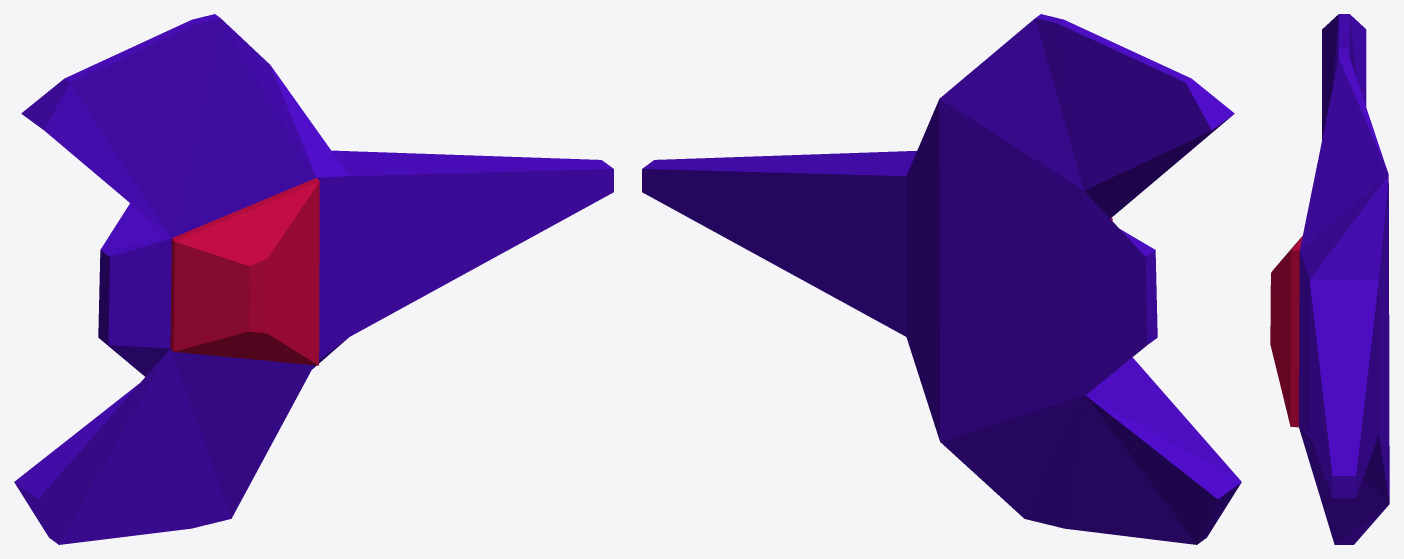
The model's file is spaceship.obj.
3 views of the same model, side by side, from view 1: azimuth 30°, elevation 25°; view 2: azimuth 150°, elevation 25°; view 3: azimuth 270°, elevation 25° (orthographic). The views are drawn at different scales.
Visible parts, largest first — view 1: Cube; view 2: Cube; view 3: Cube.
Part boxes in pixels (x1,y1,x2,y2): Cube: (14, 14, 613, 544); Cube: (642, 14, 1241, 544); Cube: (1270, 14, 1389, 544).
Bounding box in the file's own units: 21.79 × 17.94 × 4.02.
